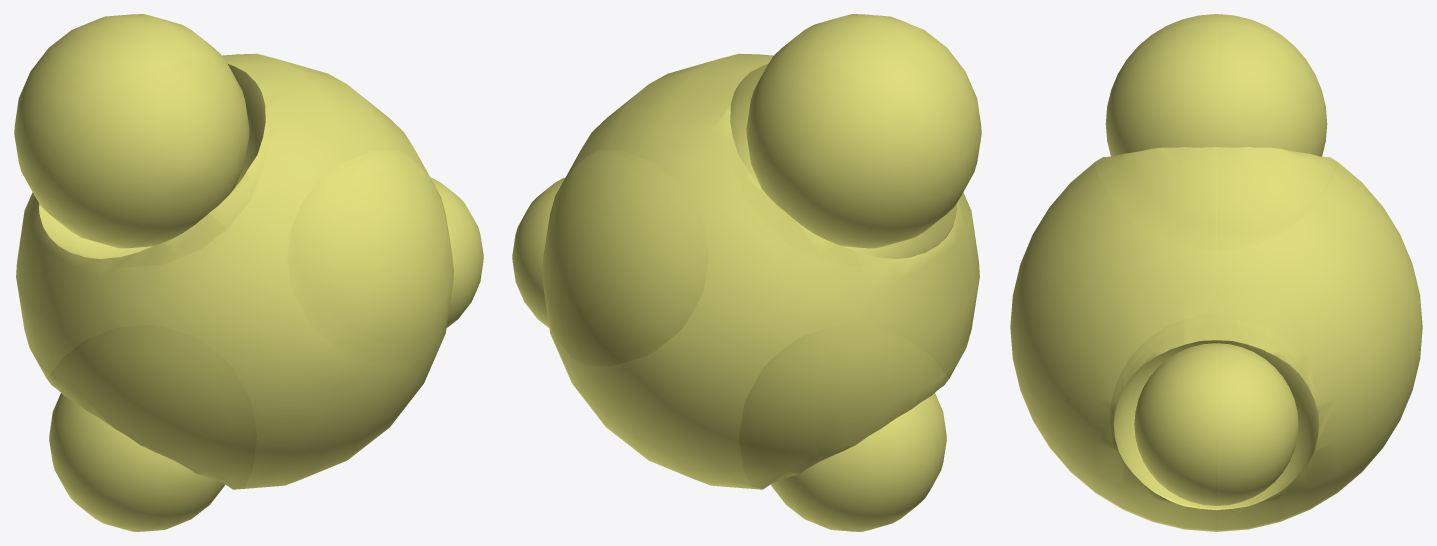
The model's file is Powerup_Leech.fbx.
3 views of the same model, side by side, from view 1: azimuth 30°, elevation 25°; view 2: azimuth 150°, elevation 25°; view 3: azimuth 270°, elevation 25° (orthographic). The views are drawn at different scales.
Visible parts, largest first — view 1: Model_Powerup_Leech; view 2: Model_Powerup_Leech; view 3: Model_Powerup_Leech.
Boxes of the visible parts, x1,y1,x2,y2 form: Model_Powerup_Leech: [14, 14, 483, 531]; Model_Powerup_Leech: [512, 14, 981, 531]; Model_Powerup_Leech: [1010, 14, 1422, 531].
Bounding box in the file's own units: 4.36 × 4.72 × 3.74.
